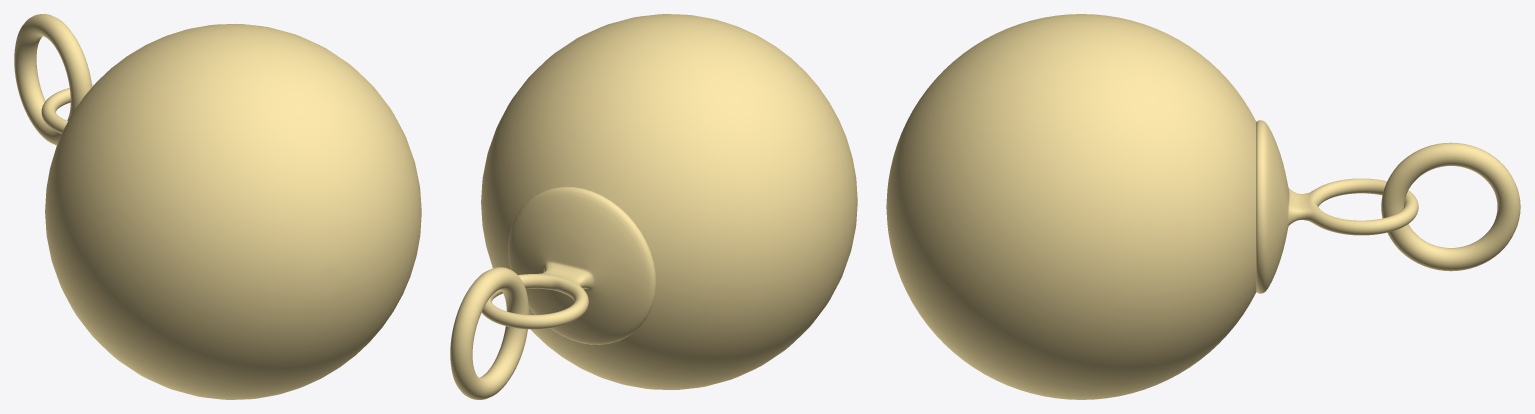
The model's file is Classic_Charm_10mm.glb.
3 renders of one model, left to right at view 1: azimuth 30°, elevation 25°; view 2: azimuth 150°, elevation 25°; view 3: azimuth 270°, elevation 25°, orthographic. The views are drawn at different scales.
Parts seen in each view (by area): view 1: Classic_Charm_10mm_Ball; view 2: Classic_Charm_10mm_Ball; view 3: Classic_Charm_10mm_Ball.
Boxes of the visible parts, x1,y1,x2,y2 form: Classic_Charm_10mm_Ball: (14, 14, 421, 399); Classic_Charm_10mm_Ball: (450, 14, 857, 399); Classic_Charm_10mm_Ball: (886, 14, 1520, 399).
Size of the model in its own units: 0.00998 by 0.00998 by 0.0164.
